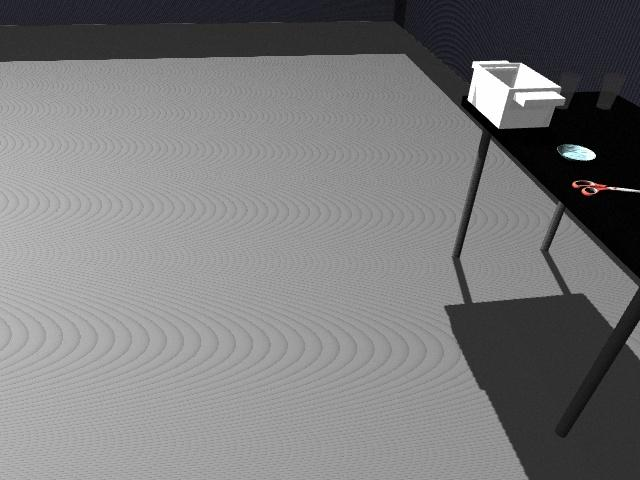cup: (596, 71, 627, 111), (553, 72, 582, 110)
plate: (556, 142, 598, 161)
scissors: (572, 179, 640, 197)
